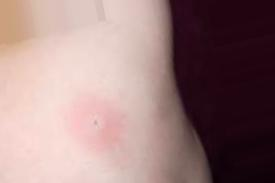Tick: (62, 91, 131, 155)
